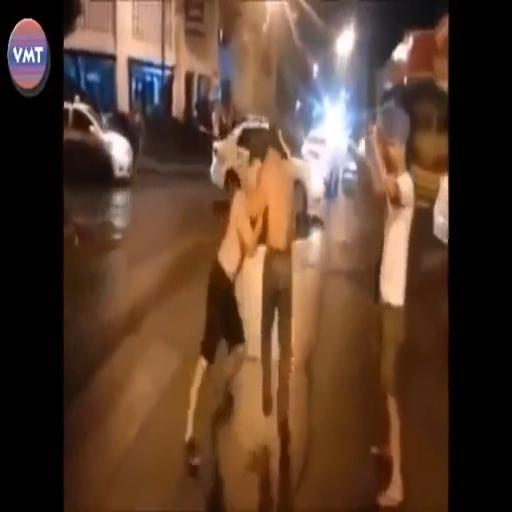violencia: (182, 102, 302, 486)
